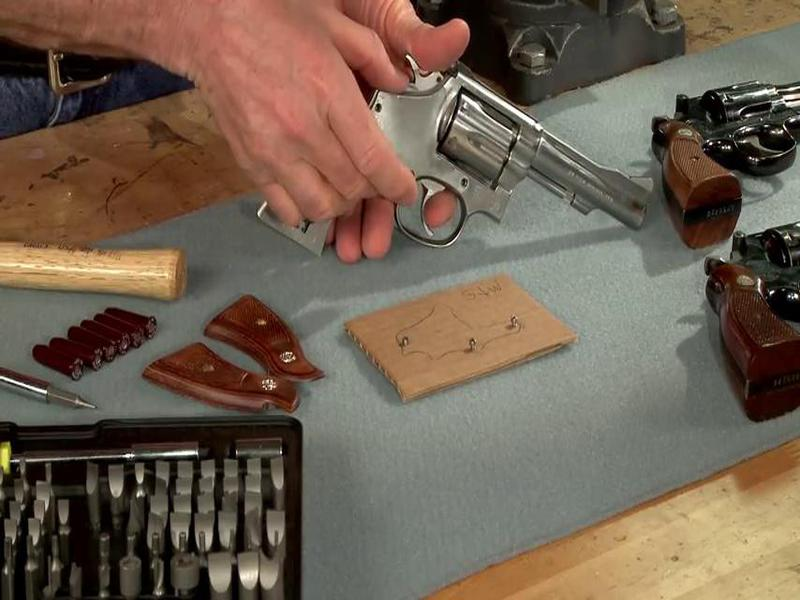Revolver: (259, 24, 691, 310)
